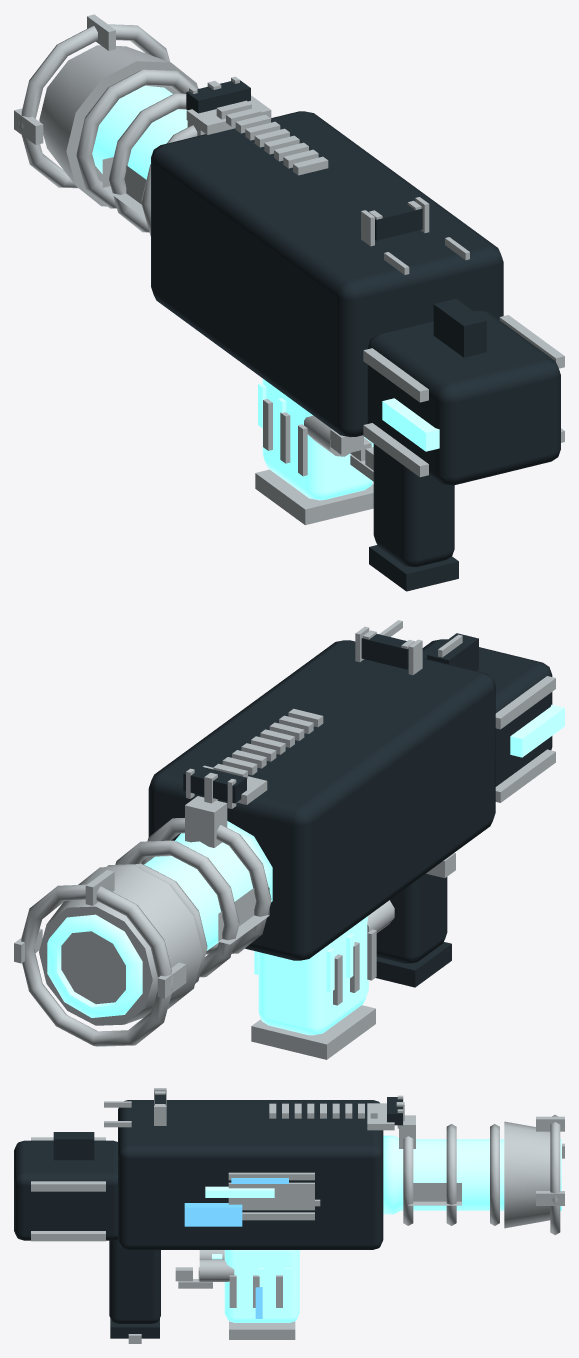
File: weapon-4.glb
3 views of the same model, one above another, from view 1: azimuth 30°, elevation 25°; view 2: azimuth 150°, elevation 25°; view 3: azimuth 270°, elevation 25° (orthographic). The views are drawn at different scales.
Visible parts, largest first — view 1: WorldBatch0, WorldBatch2, WorldBatch1; view 2: WorldBatch0, WorldBatch2, WorldBatch1; view 3: WorldBatch0, WorldBatch2, WorldBatch1, WorldBatch3.
Boxes of the visible parts, x1,y1,x2,y2 form: WorldBatch0: [151, 80, 560, 591]; WorldBatch2: [14, 14, 564, 525]; WorldBatch1: [92, 85, 439, 500]; WorldBatch0: [148, 633, 552, 987]; WorldBatch2: [14, 620, 555, 1059]; WorldBatch1: [47, 704, 564, 1035]; WorldBatch0: [14, 1093, 402, 1338]; WorldBatch2: [31, 1088, 564, 1343]; WorldBatch1: [205, 1135, 561, 1322]; WorldBatch3: [184, 1178, 288, 1318].
Size of the model in its own units: 0.24 by 0.452 by 0.955.
